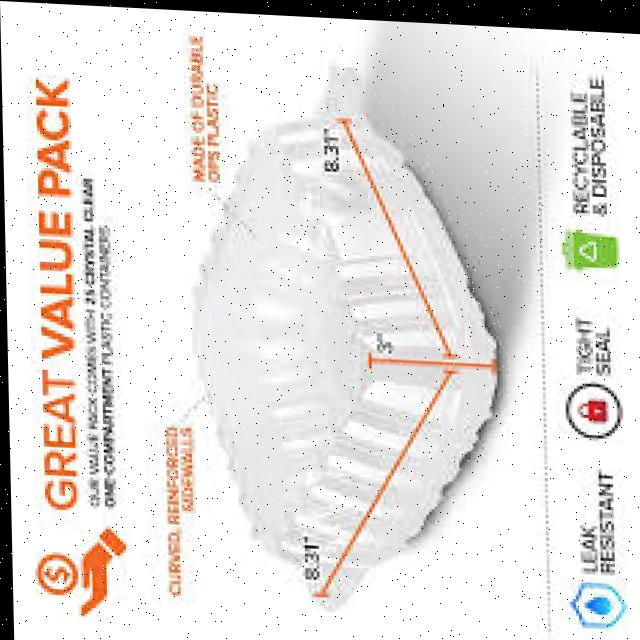disposable: (198, 66, 505, 602)
